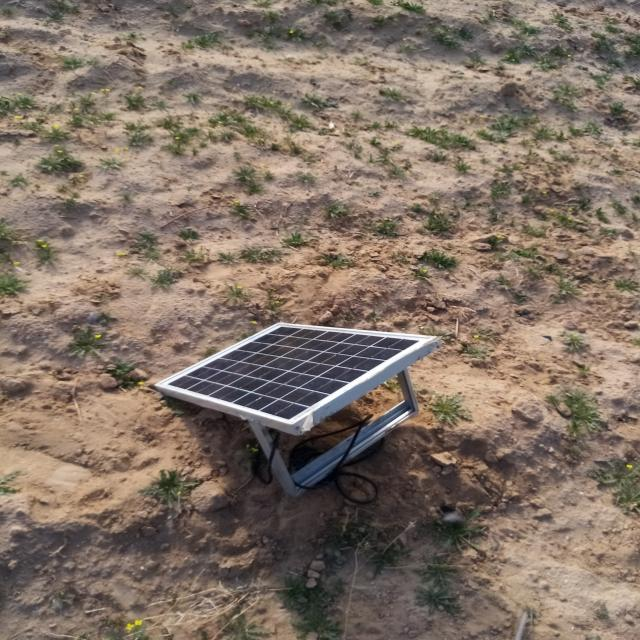no faulty: (164, 322, 431, 422)
